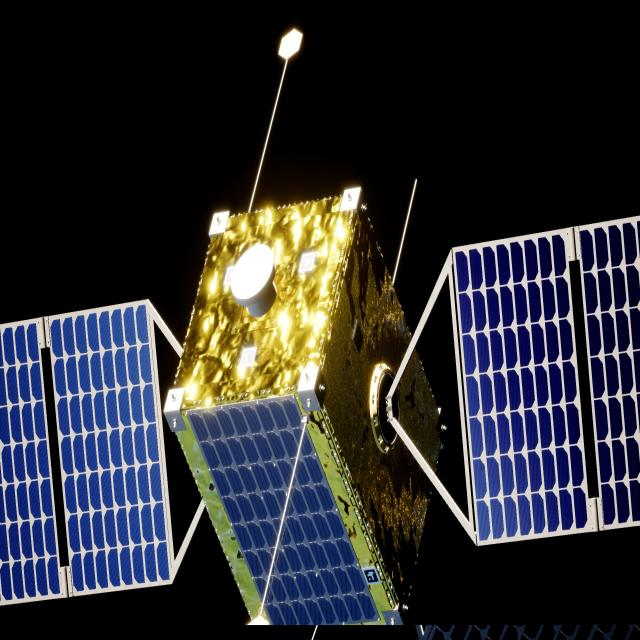medium_debris: (0, 187, 640, 628)
